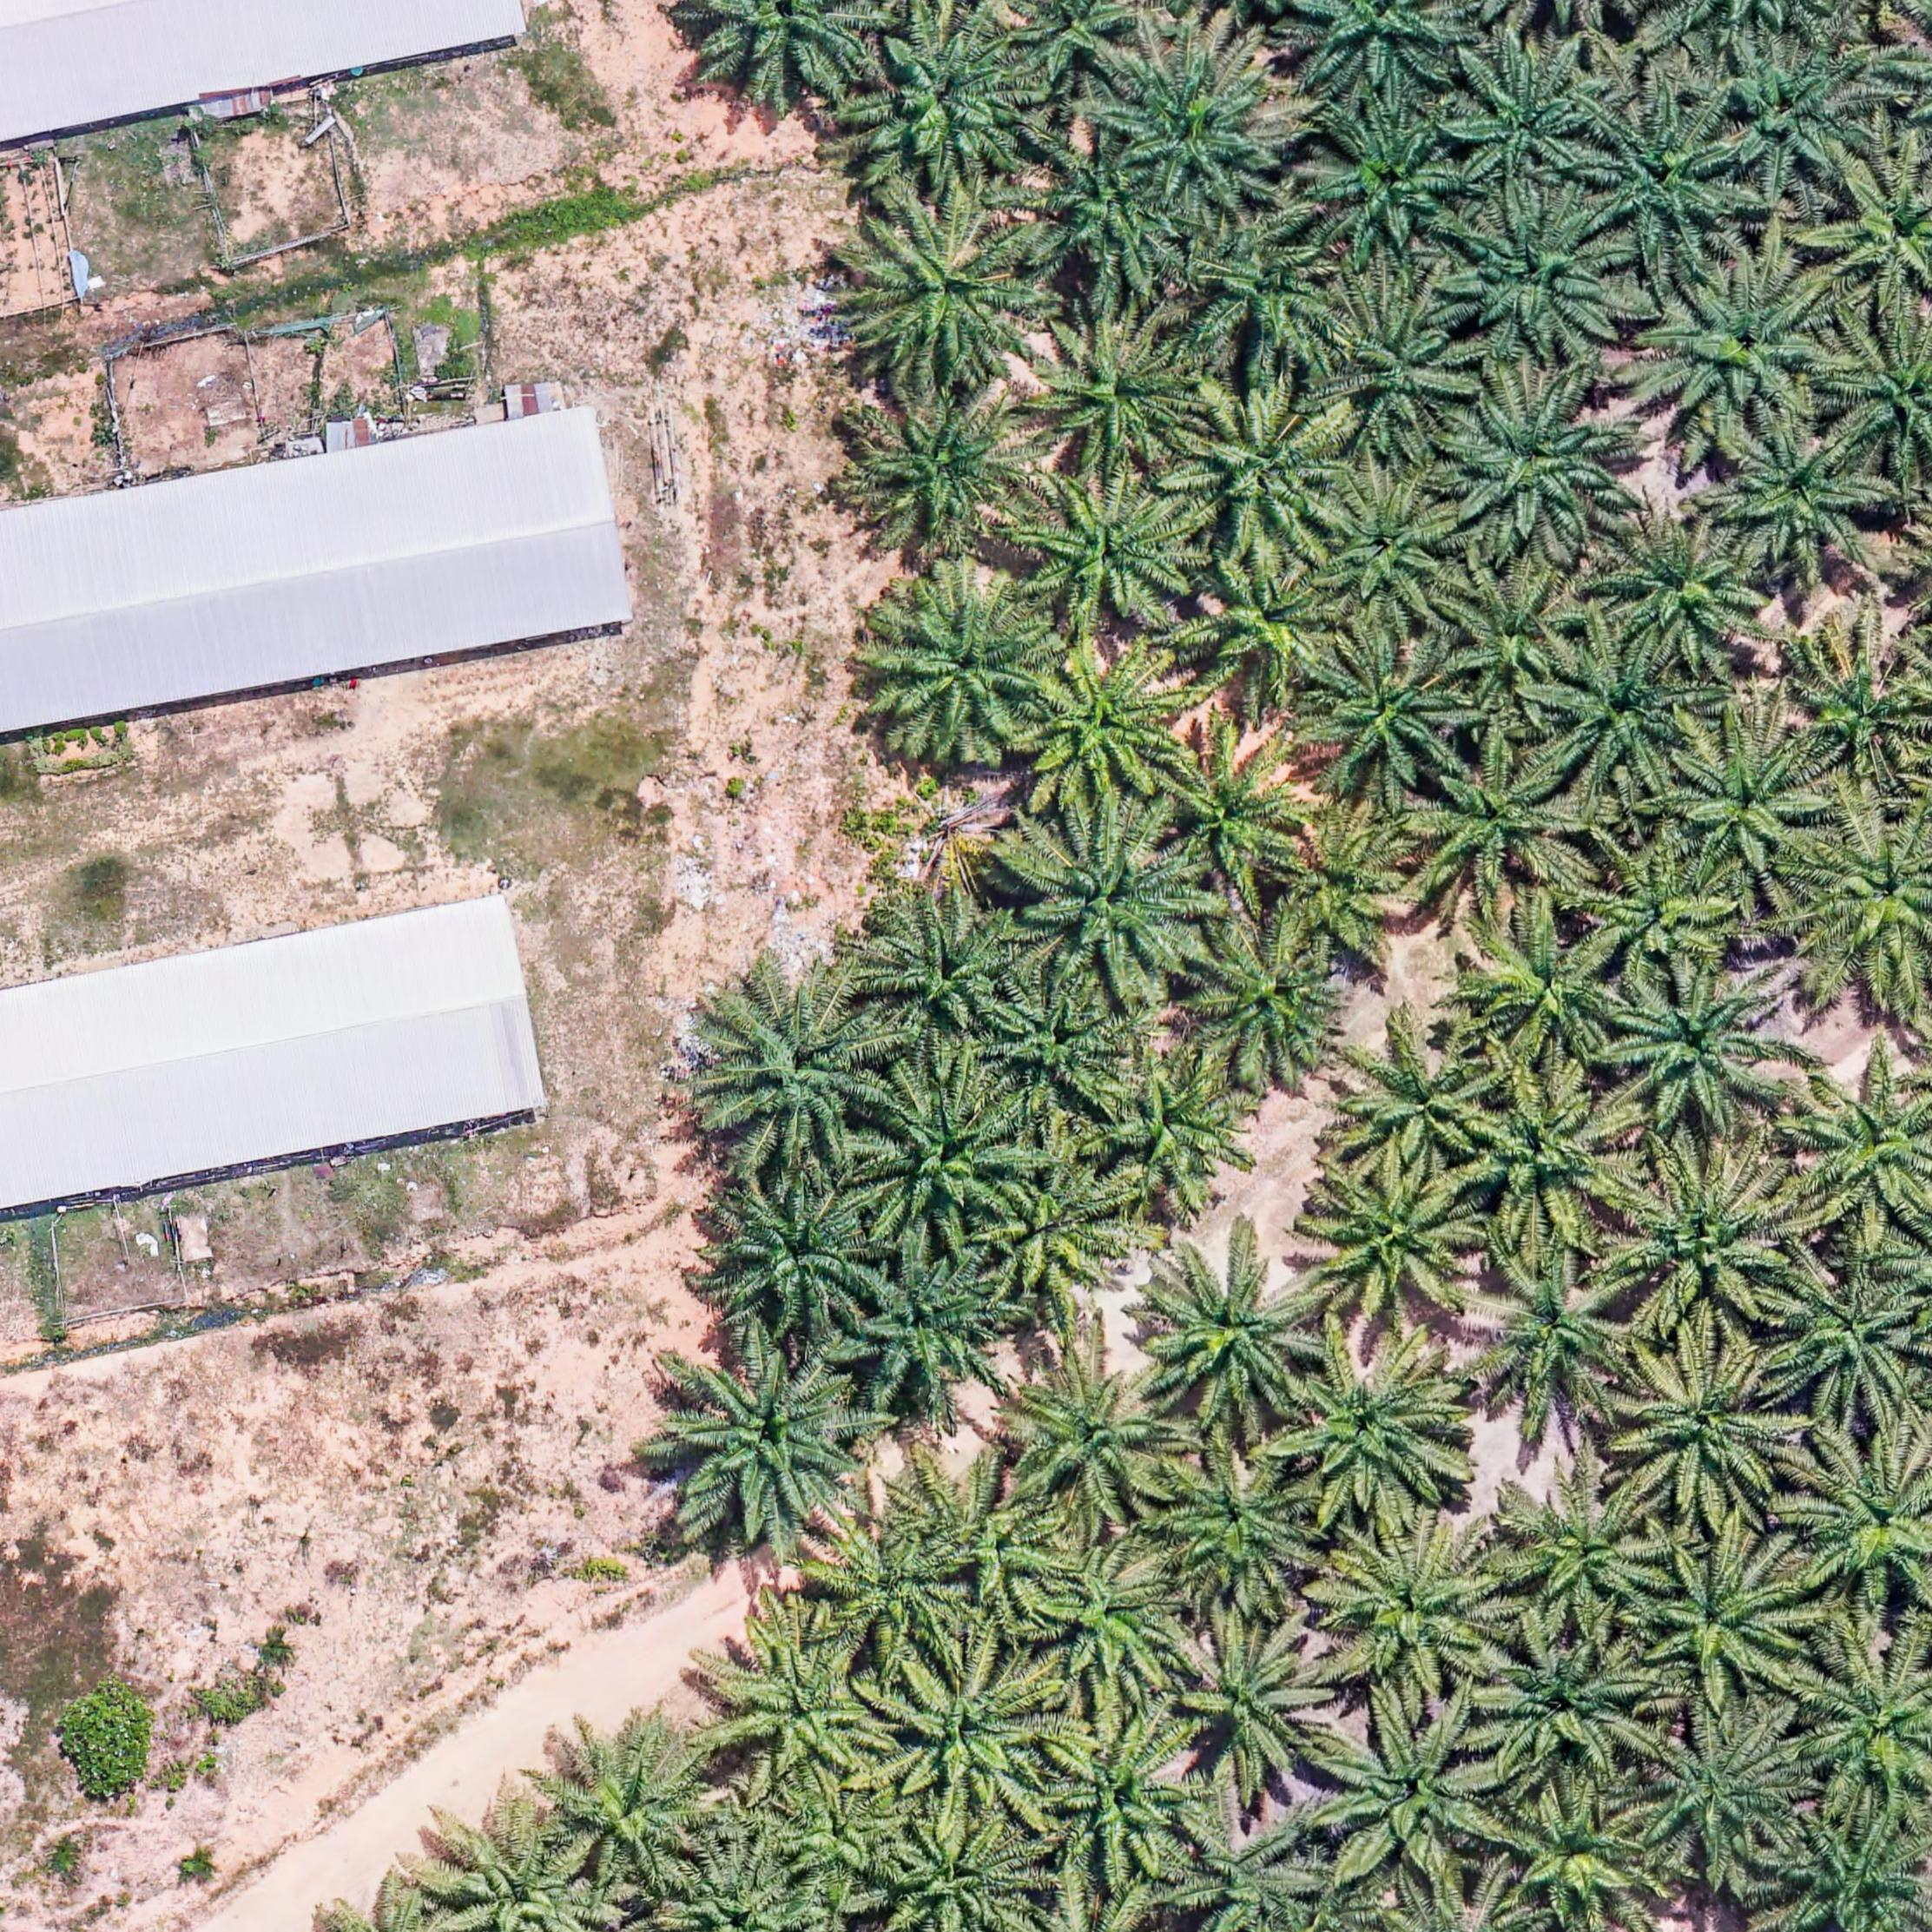palmtree: (663, 1346, 878, 1559), (695, 966, 904, 1167), (835, 201, 1051, 395), (1011, 805, 1212, 996), (850, 16, 1053, 198), (869, 574, 1063, 758), (1102, 33, 1295, 217), (1317, 1520, 1514, 1700), (1640, 254, 1840, 432), (1610, 1153, 1801, 1337), (849, 384, 1050, 557), (712, 1613, 900, 1797), (1317, 1705, 1508, 1886), (1285, 1335, 1472, 1518), (1464, 1245, 1652, 1426), (1443, 373, 1634, 551), (1147, 1243, 1331, 1421), (1615, 1337, 1799, 1514), (1610, 965, 1795, 1139), (1465, 1071, 1646, 1246), (1002, 1346, 1185, 1518), (1306, 1162, 1487, 1334), (1457, 195, 1638, 366), (1634, 1534, 1817, 1704), (1414, 741, 1596, 909), (1170, 1621, 1346, 1796), (1012, 646, 1195, 814), (1021, 475, 1208, 635), (1089, 1045, 1269, 1210), (1026, 318, 1210, 479), (1184, 386, 1360, 554), (852, 1251, 1028, 1419), (1632, 1711, 1813, 1875), (711, 1174, 891, 1337), (1157, 1440, 1331, 1608), (883, 1651, 1058, 1817), (1188, 919, 1362, 1085), (1720, 419, 1894, 585), (1495, 1471, 1672, 1633), (1483, 1627, 1660, 1788), (1785, 808, 1932, 1001), (1718, 38, 1894, 199), (554, 1731, 729, 1891), (1586, 105, 1755, 269), (1305, 638, 1473, 801), (1540, 638, 1709, 797), (1039, 1718, 1204, 1880), (867, 1079, 1034, 1240), (1604, 510, 1775, 664), (1157, 735, 1323, 893), (1304, 113, 1475, 267), (1492, 1783, 1668, 1930), (867, 900, 1043, 1048), (1470, 911, 1641, 1062), (1334, 1022, 1501, 1174), (983, 1147, 1147, 1301), (1775, 1261, 1932, 1421), (1027, 141, 1191, 293), (1669, 729, 1830, 883), (1790, 1430, 1932, 1606), (1031, 1540, 1190, 1694), (1278, 811, 1434, 967), (917, 1464, 1077, 1616), (1796, 1635, 1932, 1813), (1191, 556, 1354, 704), (1793, 1063, 1932, 1233), (1446, 46, 1604, 191), (1192, 228, 1351, 371), (1584, 847, 1743, 987), (1319, 478, 1470, 625), (813, 1520, 971, 1660), (1331, 287, 1475, 439), (427, 1817, 613, 1932), (684, 0, 880, 106), (1442, 568, 1591, 706), (1289, 0, 1476, 104), (1791, 639, 1927, 781), (1176, 1809, 1331, 1932), (987, 982, 1129, 1117), (1779, 1811, 1931, 1932), (880, 1817, 1039, 1932), (1825, 155, 1932, 316), (1828, 321, 1932, 478), (783, 1781, 911, 1890), (663, 1850, 824, 1932), (1013, 0, 1151, 94)
